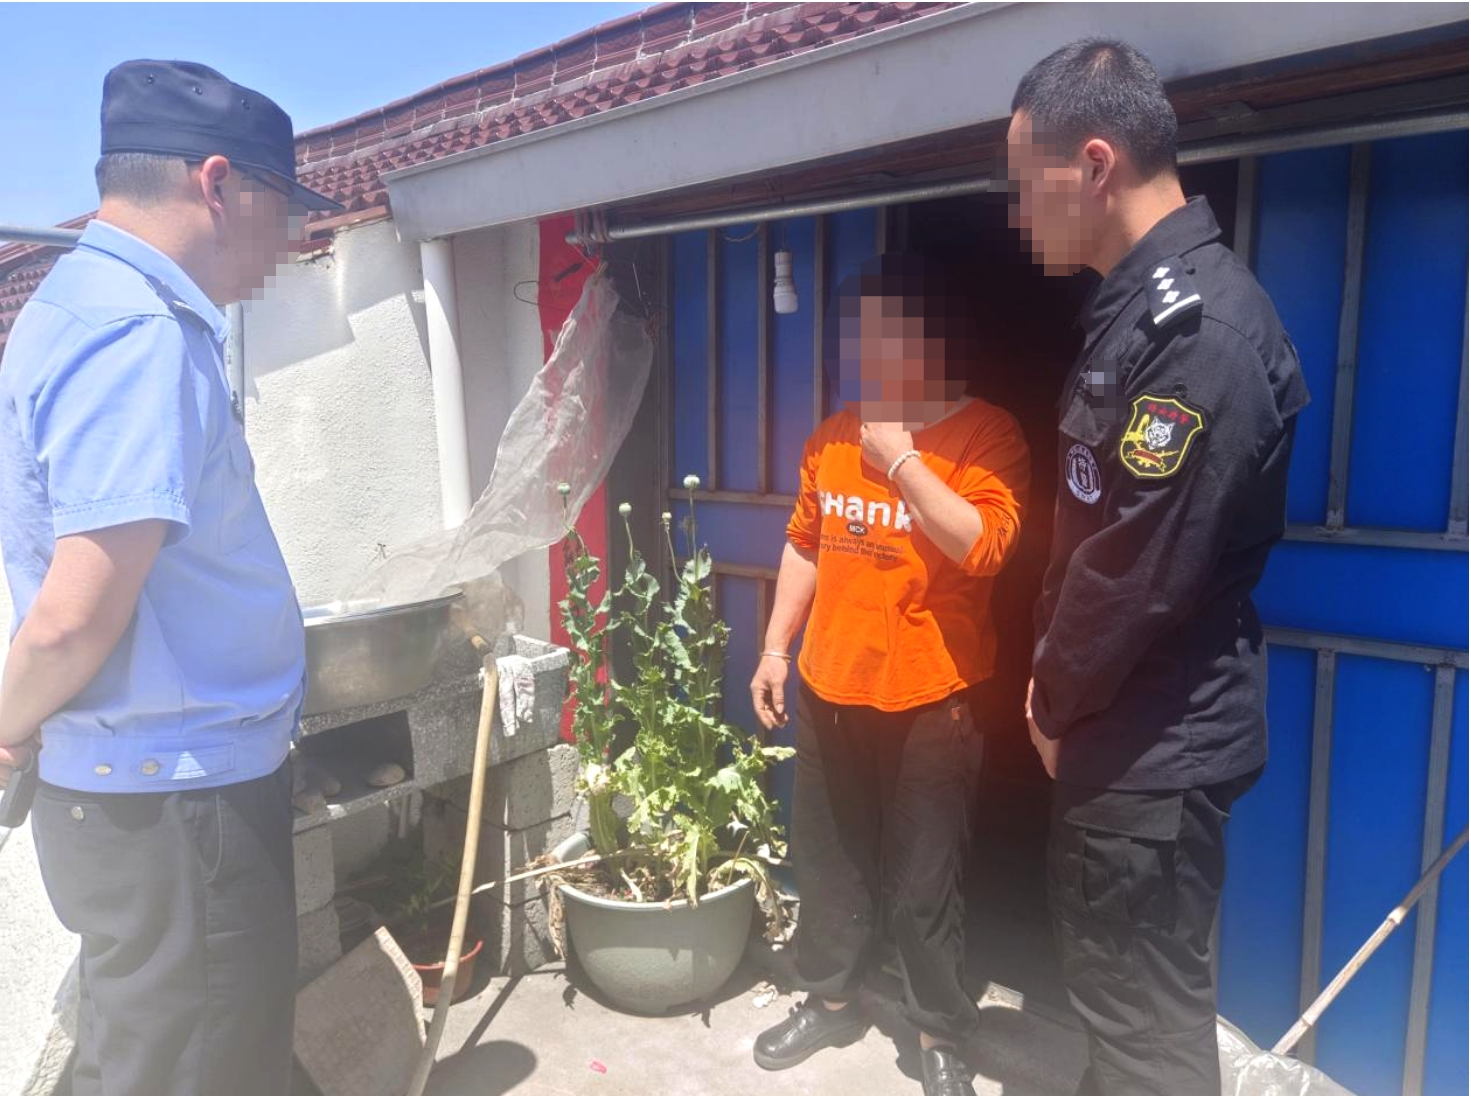Poppy: (535, 452, 780, 916)
